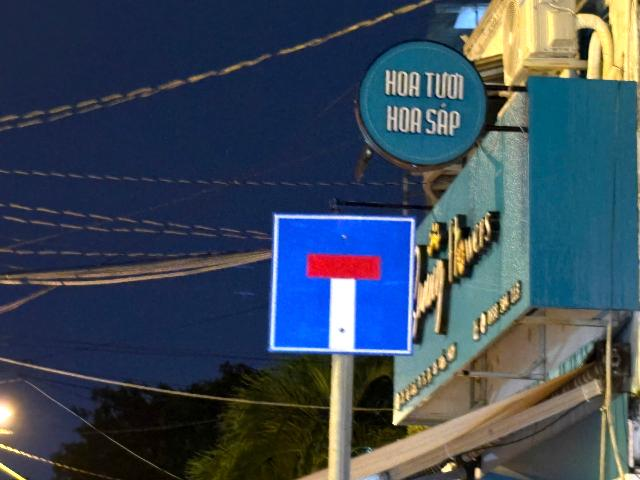duong-cut: (268, 211, 416, 354)
